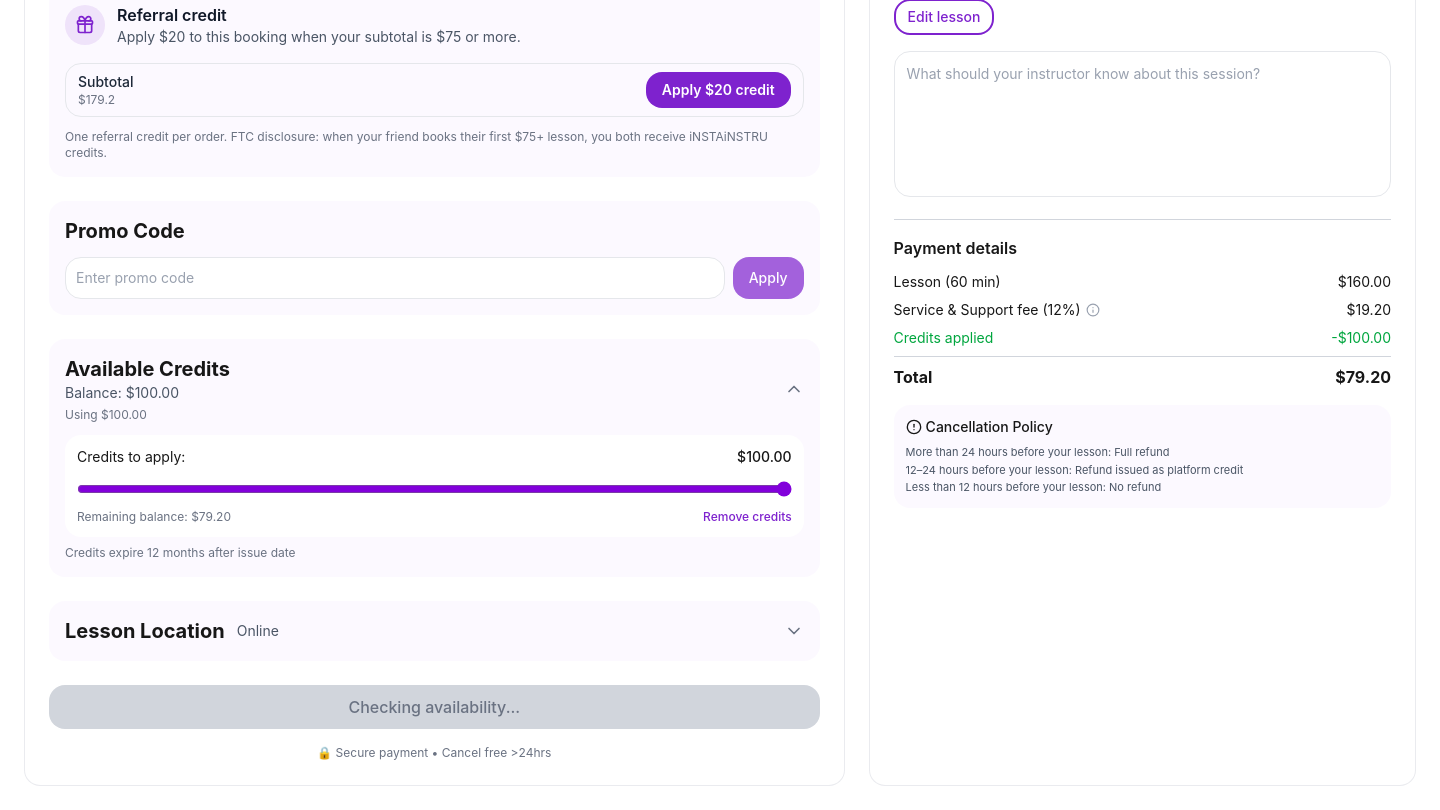
Test case: Payment summary integration with pricing preview › clamps applied credits when duration decreases and persists the server amount
(page scrolled)
Set the slider to "40" at (364, 489), box x1=77 y1=481 x2=792 y2=497
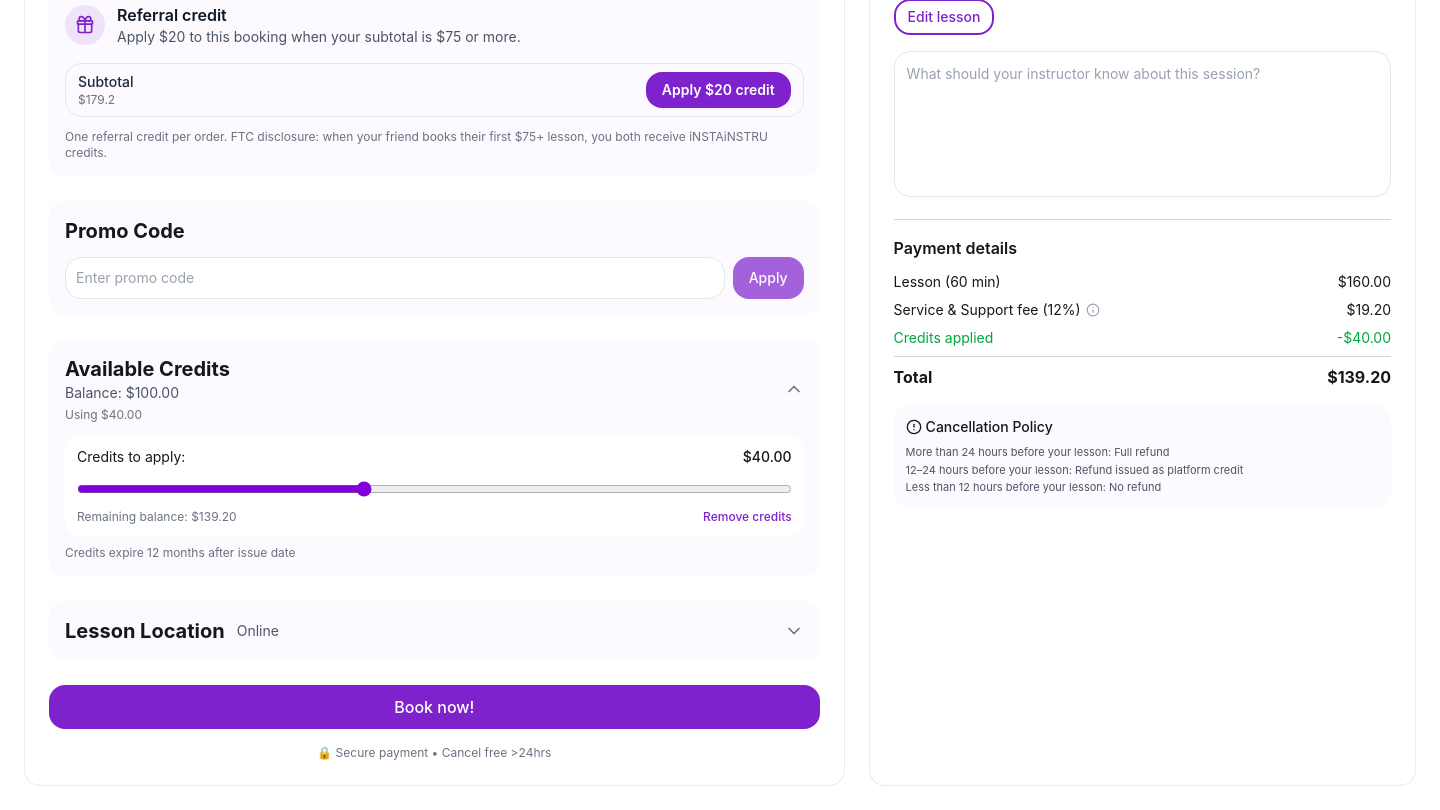
Click the button "Edit lesson" at (944, 17), box x1=894 y1=0 x2=994 y2=35
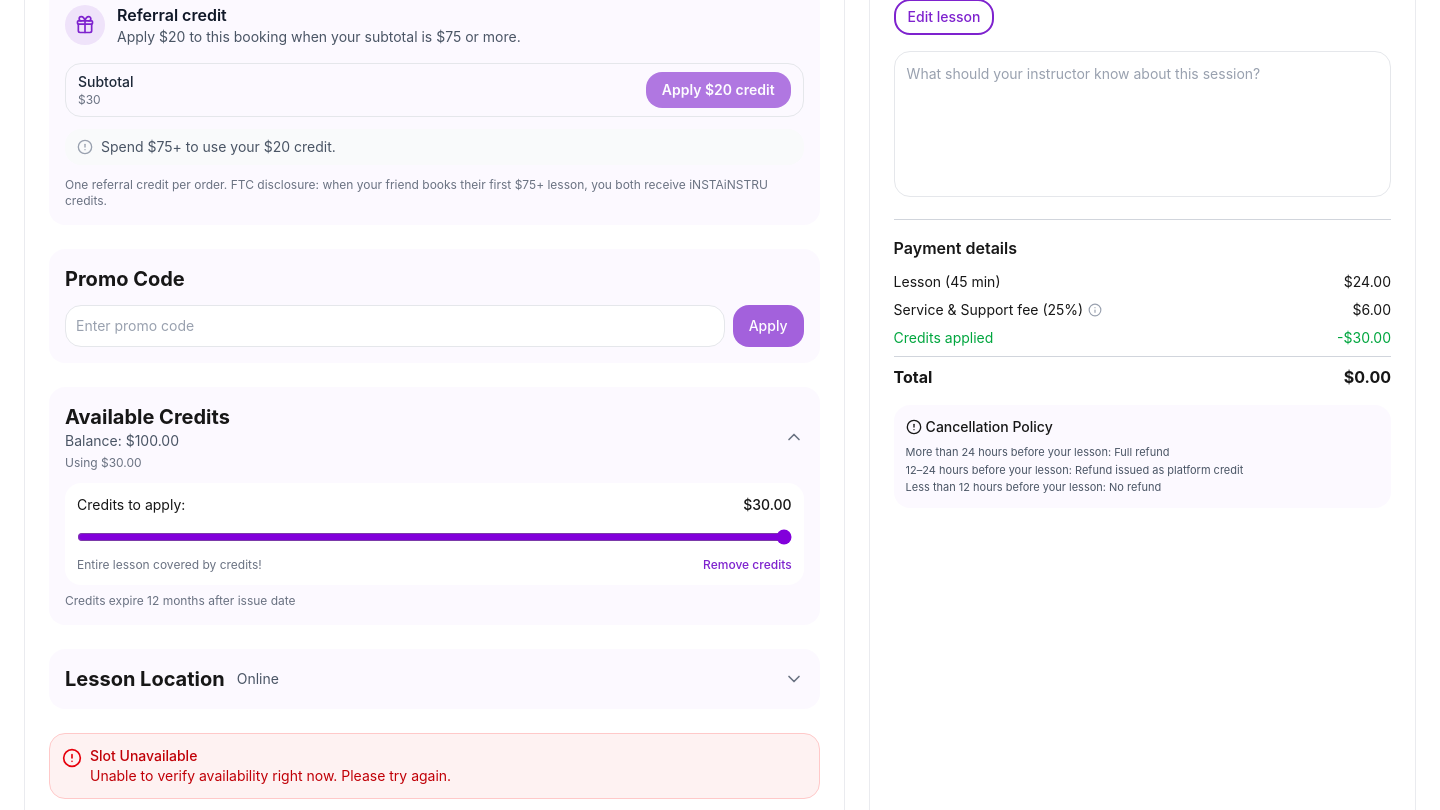
Now the slider holds "30", box x1=77 y1=529 x2=792 y2=545
Now the text "Using $30.00" is shown, box x1=65 y1=455 x2=142 y2=470
